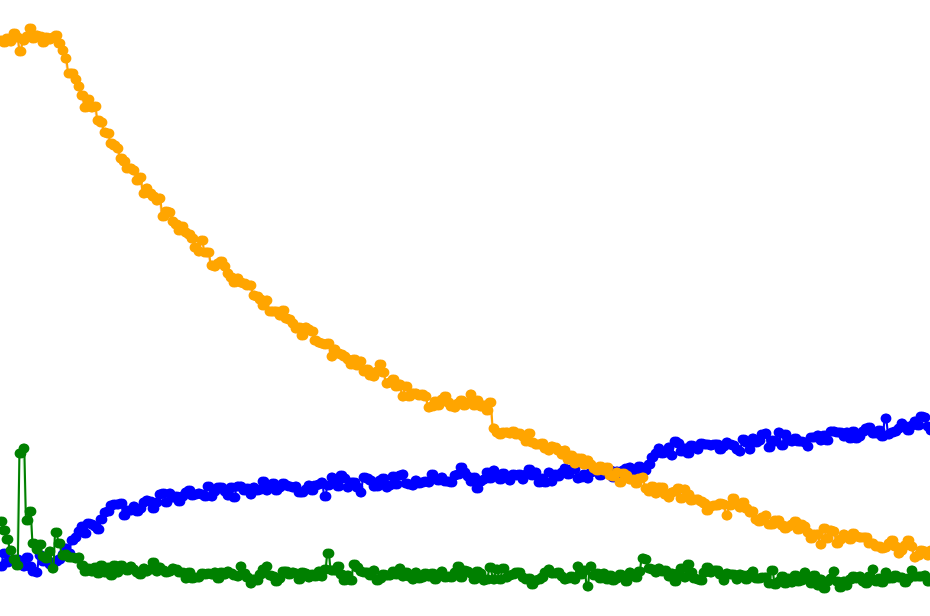CO2 Problem: (583, 0, 930, 616), (388, 0, 661, 616), (116, 0, 272, 616), (388, 0, 505, 616), (272, 0, 388, 616), (816, 0, 930, 616), (505, 0, 583, 616)
Condensation (CO2): (116, 0, 272, 616), (116, 0, 233, 616), (388, 0, 505, 616), (272, 0, 388, 616), (38, 0, 116, 616)
Low CO2: (388, 0, 505, 616), (311, 0, 388, 616)
Low O2: (583, 0, 930, 616), (661, 0, 930, 616), (699, 0, 930, 616), (777, 0, 930, 616), (816, 0, 930, 616), (777, 0, 816, 616)
Normal: (311, 0, 930, 616), (505, 0, 930, 616), (0, 0, 388, 616), (583, 0, 930, 616), (388, 0, 661, 616), (0, 0, 272, 616), (116, 0, 388, 616), (661, 0, 930, 616), (388, 0, 622, 616), (699, 0, 930, 616), (388, 0, 583, 616), (738, 0, 930, 616), (116, 0, 272, 616), (583, 0, 738, 616), (777, 0, 930, 616), (116, 0, 233, 616), (388, 0, 505, 616), (0, 0, 116, 616), (272, 0, 388, 616), (816, 0, 930, 616), (38, 0, 116, 616), (505, 0, 583, 616), (583, 0, 661, 616), (0, 0, 77, 616), (777, 0, 816, 616)
O2 Problem: (388, 0, 930, 616), (738, 0, 930, 616), (116, 0, 272, 616), (388, 0, 505, 616), (272, 0, 388, 616)
